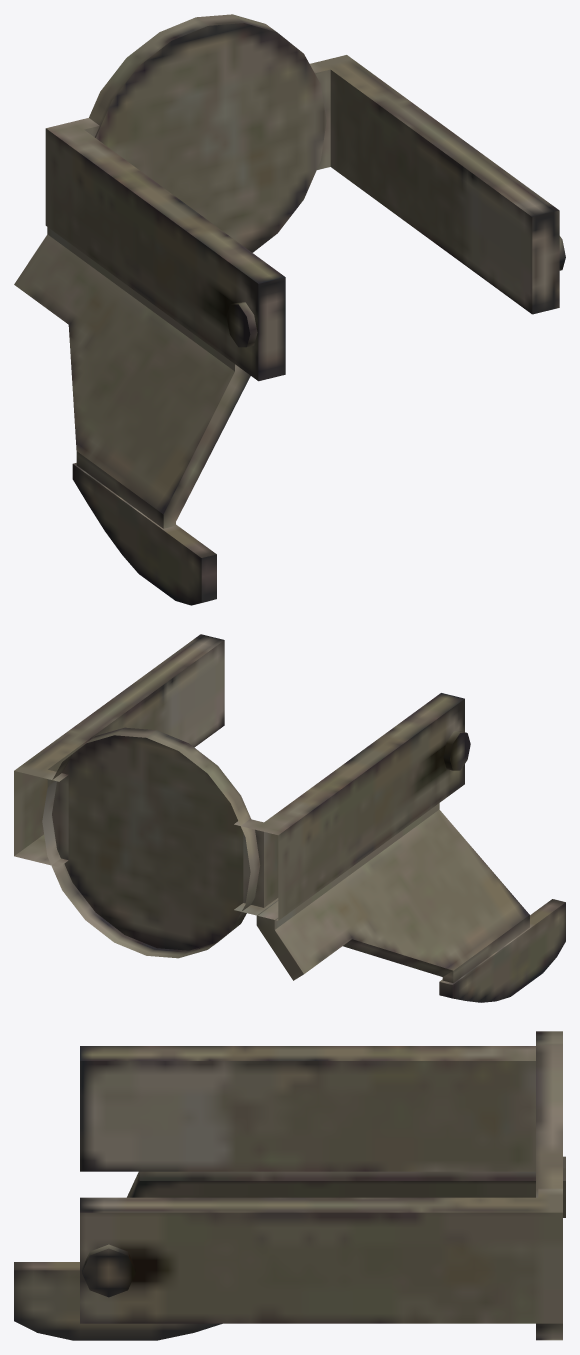
Rendered from Turret_02.glb.
3 views of the same model, one above another, from view 1: azimuth 30°, elevation 25°; view 2: azimuth 150°, elevation 25°; view 3: azimuth 270°, elevation 25° (orthographic). The views are drawn at different scales.
Parts seen in each view (by area): view 1: set_0_group_0; view 2: set_0_group_0; view 3: set_0_group_0.
Boxes of the visible parts, x1,y1,x2,y2 form: set_0_group_0: (14, 14, 565, 605); set_0_group_0: (14, 634, 565, 1002); set_0_group_0: (14, 1031, 565, 1340).
Size of the model in its own units: 0.4495 by 0.4012 by 0.4796.
Materials: 1 (1 with a texture image).
